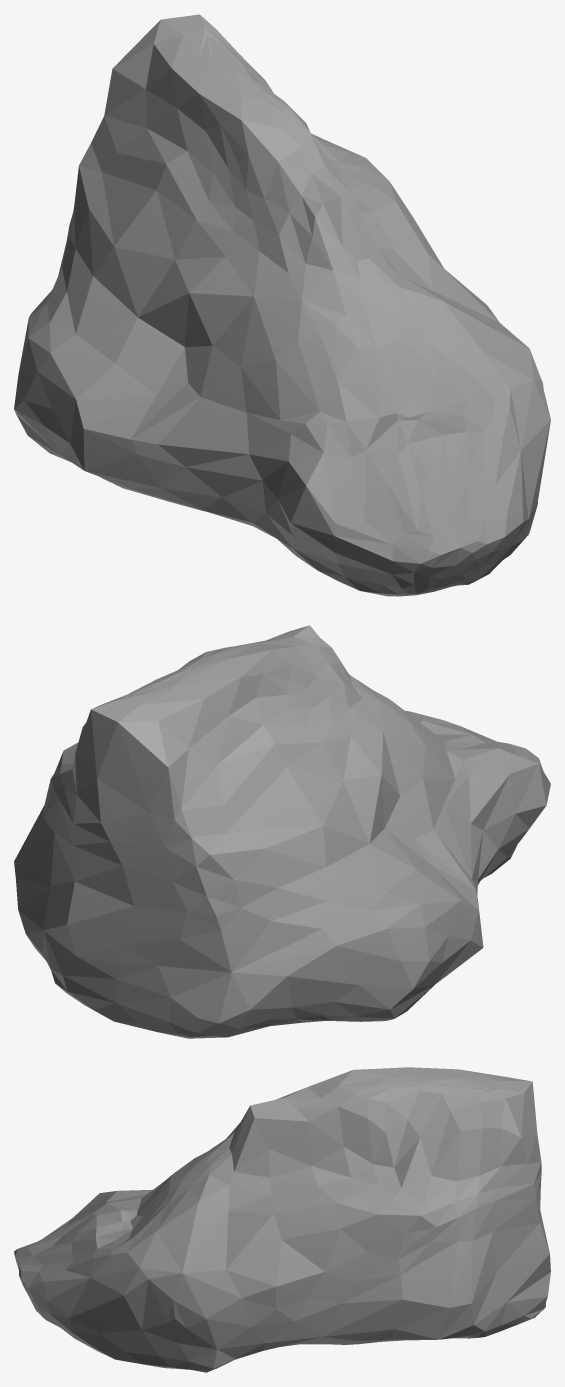
The model's file is Cavern_Wall_End-01.fbx.
The picture shows the model from 3 angles, top to bottom: view 1: azimuth 30°, elevation 25°; view 2: azimuth 150°, elevation 25°; view 3: azimuth 270°, elevation 25°; orthographic projection. The views are drawn at different scales.
Parts seen in each view (by area): view 1: Cavern_Wall_End-01; view 2: Cavern_Wall_End-01; view 3: Cavern_Wall_End-01.
Part boxes in pixels (box(x1,y1,x2,y2)): Cavern_Wall_End-01: box(14, 14, 550, 596); Cavern_Wall_End-01: box(14, 625, 550, 1038); Cavern_Wall_End-01: box(14, 1067, 550, 1372).
Size of the model in its own units: 1212 by 1000 by 1928.
1 material, 1 textured.
